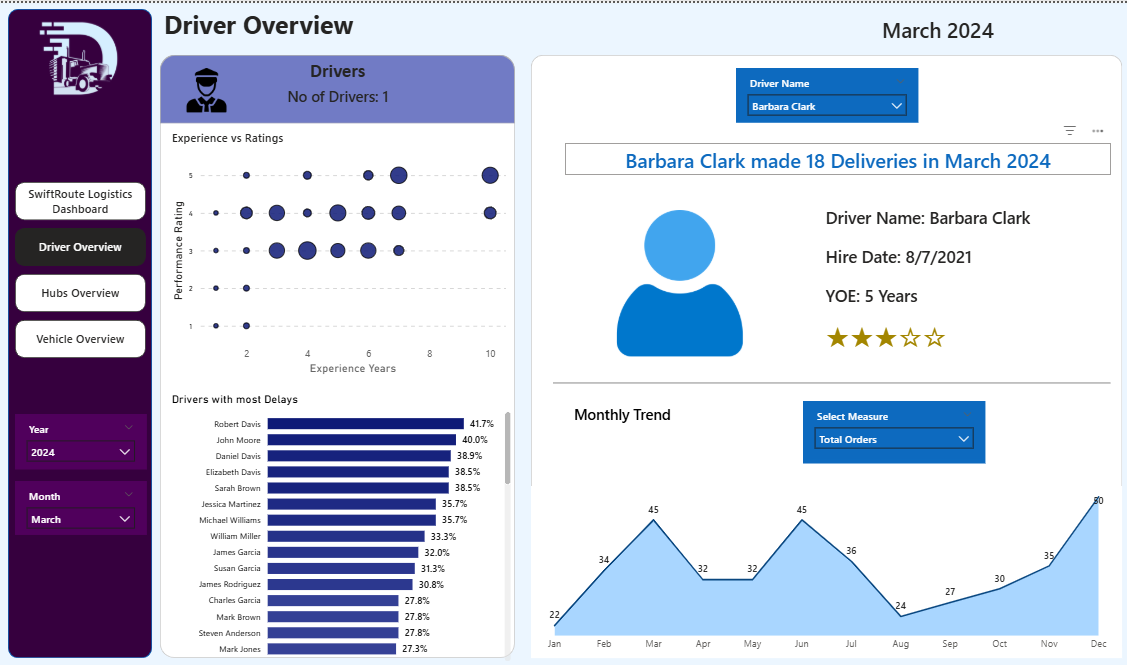

This screenshot's page, from the dashboard's own definition file:
{"tool":"powerbi","page":{"name":"Driver Overview","canvas":[1450,850],"ordinal":1},"visuals":[{"type":"textbox","box":[205.5,0,505.8,53.7],"z":0},{"type":"shape","box":[10.3,8,185,833.5],"z":1000},{"type":"slicer","fields":{"Values":["Date Table.Year"]},"box":[19.6,527.7,169,70.8],"z":2000},{"type":"slicer","fields":{"Values":["Date Table.Month"]},"box":[19.6,613.3,169,68.5],"z":3000},{"type":"shape","box":[205.5,67.4,455.6,774.1],"z":4000},{"type":"shape","box":[205.5,67.4,455.6,87.9],"z":5000},{"type":"textbox","box":[234.1,67.4,399.6,40],"z":6000},{"type":"cardVisual","fields":{"Data":["Drivers.No of Drivers"]},"box":[328.8,98.2,210.1,41.1],"z":7000},{"type":"scatterChart","title":"Experience vs Ratings","fields":{"X":["Drivers.Experience Years"],"Y":["Drivers.Performance Rating"],"Size":["Sum(Drivers.Experience Years)1"]},"box":[215.8,163.3,445.3,318.5],"z":8000},{"type":"barChart","title":"Drivers with most Delays","fields":{"Category":["Drivers.DriverName"],"Y":["Orders.Delayed Delivery Rate"]},"box":[215.8,501.2,445.3,349.4],"z":9000},{"type":"image","box":[18.4,14.5,168.4,122.4],"z":10000},{"type":"cardVisual","fields":{"Data":["Orders.Year Month Title"]},"box":[1098.7,13.2,210.5,40.8],"z":11000},{"type":"shape","box":[681.6,67.1,759.2,773.7],"z":12000},{"type":"slicer","fields":{"Values":["Drivers.DriverName"]},"box":[944.7,82.9,234.2,69.7],"z":13000},{"type":"cardVisual","fields":{"Data":["Drivers.Drivers Title"]},"box":[725,180.3,701.3,40.8],"z":14000},{"type":"cardVisual","fields":{"Data":["Drivers.Driver Name Title","Drivers.Hire Date Title","Drivers.YOE","Drivers.Star Rating"]},"box":[1031.6,236.8,380.3,228.9],"z":15000},{"type":"image","box":[759.2,265.8,227.6,188.2],"z":16000},{"type":"areaChart","fields":{"Y":["Orders.Total Orders"],"Category":["Date Table.Month Abr"]},"box":[681.6,619.7,759.2,221.1],"z":17000},{"type":"slicer","fields":{"Values":["Select Measure.Select Measure"]},"box":[1031.6,510.5,234.2,80.3],"z":18000},{"type":"textbox","box":[731.6,510.5,176.3,40.8],"z":19000},{"type":"shape","box":[710.5,464.5,715.8,46.1],"z":20000},{"type":"image","box":[234.2,82.9,63.2,56.6],"z":21000},{"type":"pageNavigator","box":[19.7,230.3,168.4,226.3],"z":22000}]}

Visuals, with their boxes in screenshot pixels (x1, y1, x2, y2), scaled from the page's 1450x850 canvas onto the 1127x665 screenshot:
textbox: {"x1": 160, "y1": 0, "x2": 553, "y2": 42}
shape: {"x1": 8, "y1": 6, "x2": 152, "y2": 658}
slicer - Date Table.Year: {"x1": 15, "y1": 413, "x2": 147, "y2": 468}
slicer - Date Table.Month: {"x1": 15, "y1": 480, "x2": 147, "y2": 533}
shape: {"x1": 160, "y1": 53, "x2": 514, "y2": 658}
shape: {"x1": 160, "y1": 53, "x2": 514, "y2": 121}
textbox: {"x1": 182, "y1": 53, "x2": 493, "y2": 84}
cardVisual - Drivers.No of Drivers: {"x1": 256, "y1": 77, "x2": 419, "y2": 109}
"Experience vs Ratings" scatterChart: {"x1": 168, "y1": 128, "x2": 514, "y2": 377}
"Drivers with most Delays" barChart: {"x1": 168, "y1": 392, "x2": 514, "y2": 664}
image: {"x1": 14, "y1": 11, "x2": 145, "y2": 107}
cardVisual - Orders.Year Month Title: {"x1": 854, "y1": 10, "x2": 1018, "y2": 42}
shape: {"x1": 530, "y1": 52, "x2": 1120, "y2": 658}
slicer - Drivers.DriverName: {"x1": 734, "y1": 65, "x2": 916, "y2": 119}
cardVisual - Drivers.Drivers Title: {"x1": 564, "y1": 141, "x2": 1109, "y2": 173}
cardVisual - Drivers.Driver Name Title x Drivers.Hire Date Title: {"x1": 802, "y1": 185, "x2": 1097, "y2": 364}
image: {"x1": 590, "y1": 208, "x2": 767, "y2": 355}
areaChart - Orders.Total Orders x Date Table.Month Abr: {"x1": 530, "y1": 485, "x2": 1120, "y2": 658}
slicer - Select Measure.Select Measure: {"x1": 802, "y1": 399, "x2": 984, "y2": 462}
textbox: {"x1": 569, "y1": 399, "x2": 706, "y2": 431}
shape: {"x1": 552, "y1": 363, "x2": 1109, "y2": 399}
image: {"x1": 182, "y1": 65, "x2": 231, "y2": 109}
pageNavigator: {"x1": 15, "y1": 180, "x2": 146, "y2": 357}
